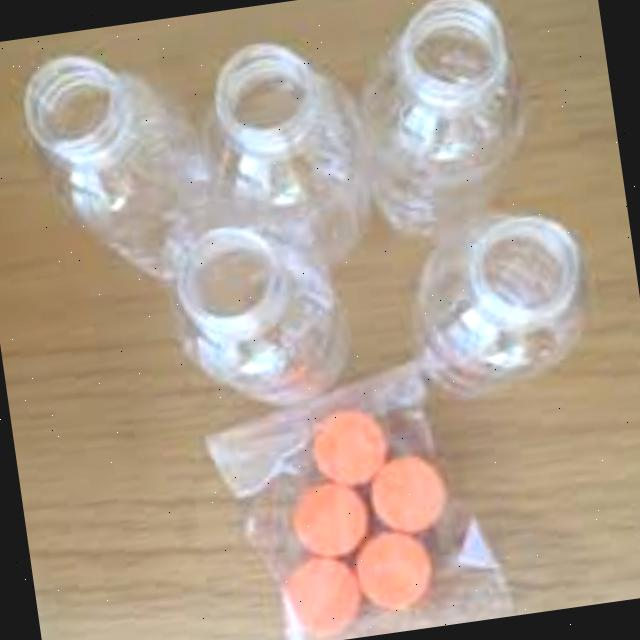trash: (5, 36, 229, 304), (178, 23, 382, 280), (342, 0, 549, 238), (391, 203, 606, 417), (154, 208, 364, 421)
